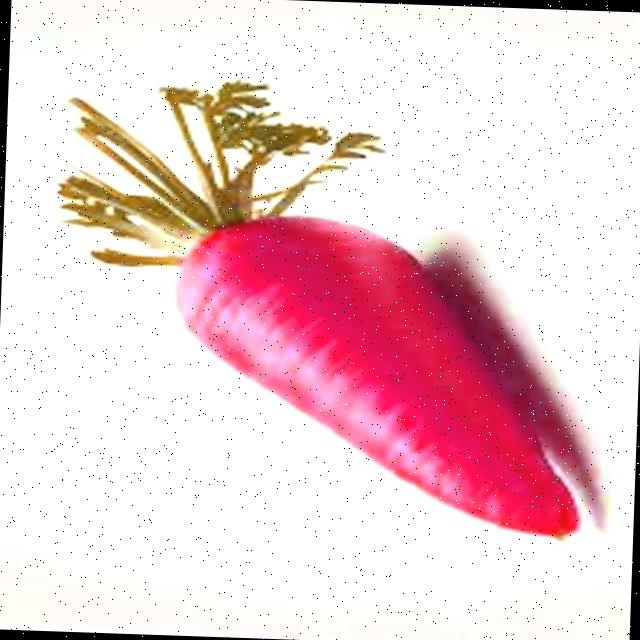carrot: (58, 80, 577, 536)
